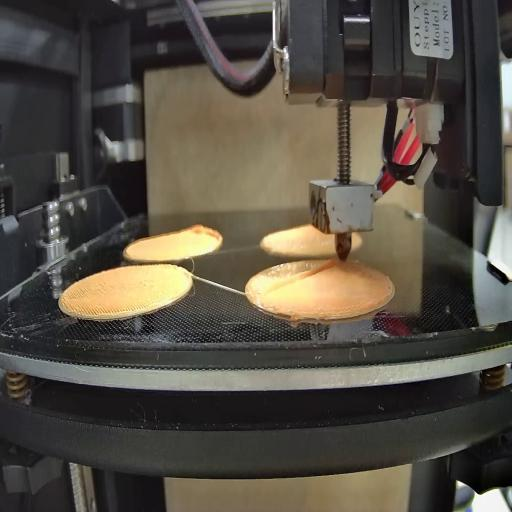over_extrusion: (265, 257, 338, 298), (188, 218, 224, 255)
